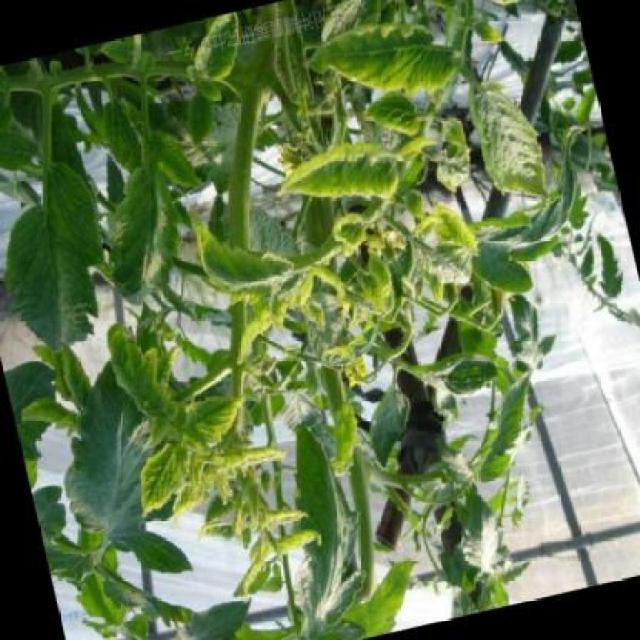Healthy Leaf: (286, 7, 464, 121), (447, 61, 561, 229), (263, 132, 417, 226), (185, 199, 296, 321), (100, 317, 185, 440), (176, 10, 269, 94), (124, 435, 200, 526), (423, 192, 487, 283), (173, 381, 247, 456)
